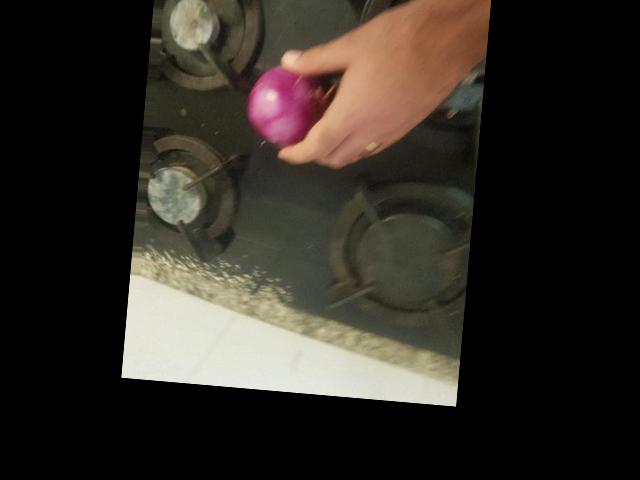onion: (245, 60, 335, 152)
